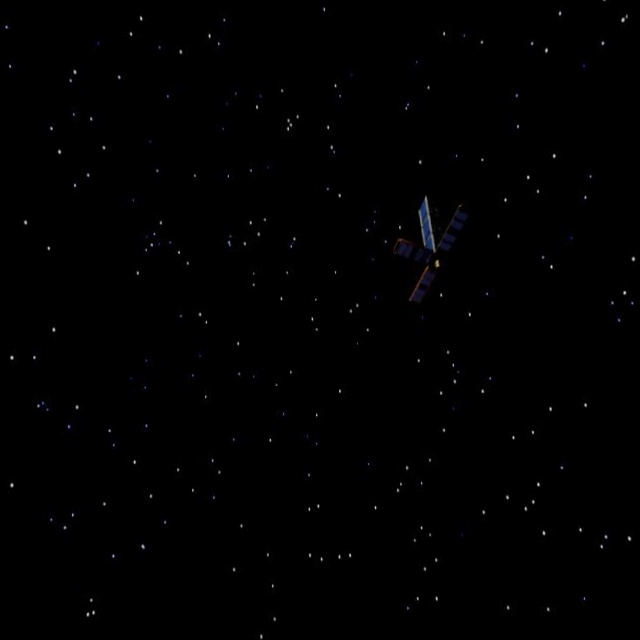satellite: (390, 192, 485, 319)
